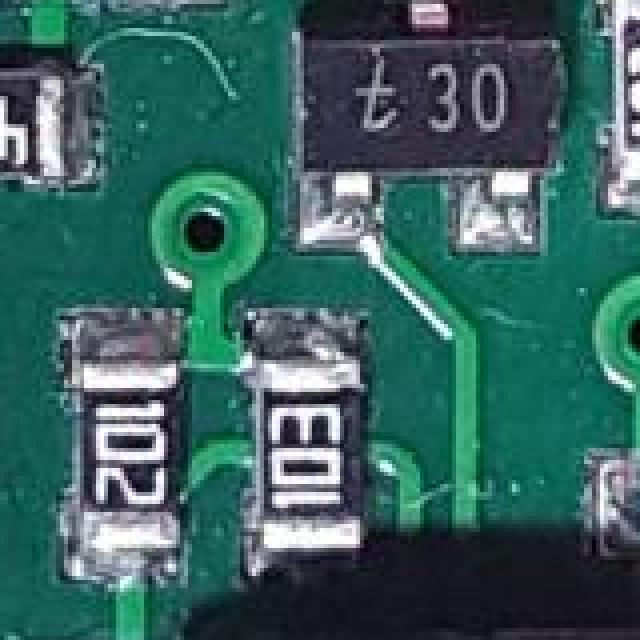IC: (68, 636, 640, 640)
capacitor: (636, 444, 640, 596)
resistor: (232, 324, 366, 554), (52, 340, 192, 542), (0, 48, 72, 196), (596, 0, 640, 180)
transistor: (280, 0, 560, 216)
